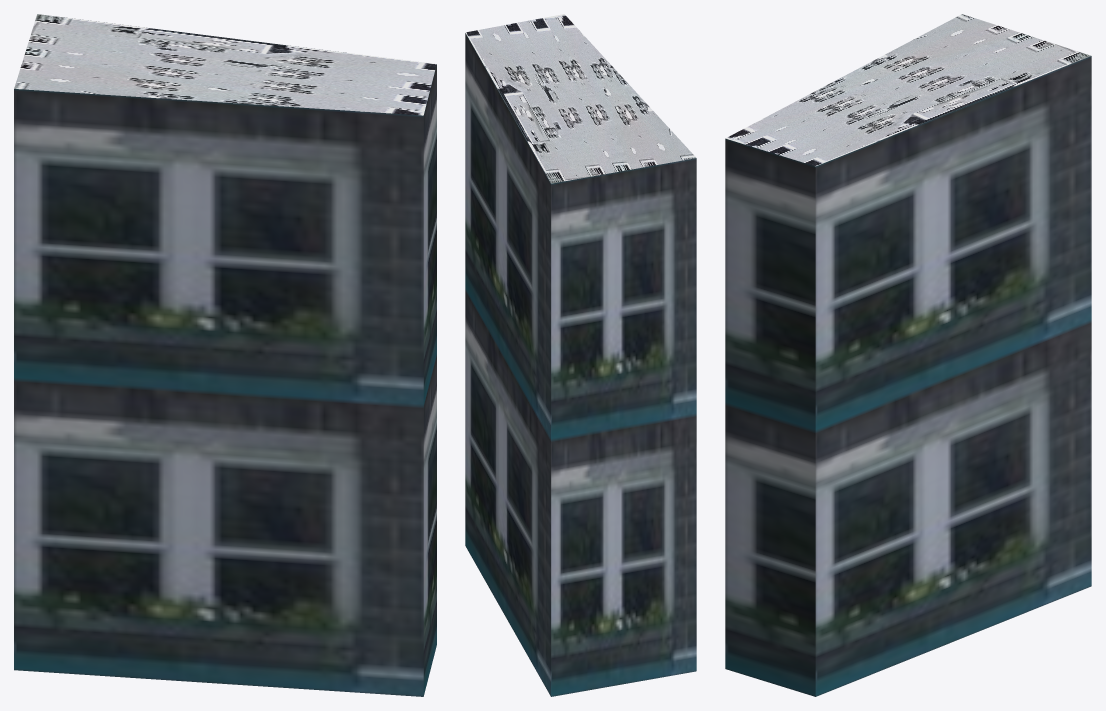
The model's file is ResTex__3393.fbx.
3 views of the same model, side by side, from view 1: azimuth 30°, elevation 25°; view 2: azimuth 150°, elevation 25°; view 3: azimuth 270°, elevation 25° (orthographic). The views are drawn at different scales.
Parts seen in each view (by area): view 1: CityEngineMaterial_11_m, CityEngineMaterial_m; view 2: CityEngineMaterial_11_m, CityEngineMaterial_m; view 3: CityEngineMaterial_11_m, CityEngineMaterial_m.
Part boxes in pixels (x1,y1,x2,y2): CityEngineMaterial_11_m: (14, 64, 436, 696); CityEngineMaterial_m: (14, 14, 436, 115); CityEngineMaterial_11_m: (465, 33, 696, 696); CityEngineMaterial_m: (465, 14, 696, 183); CityEngineMaterial_11_m: (725, 56, 1091, 696); CityEngineMaterial_m: (725, 14, 1091, 166).
Bounding box in the file's own units: 3.7 × 6 × 3.76.
Materials: 2 (2 with a texture image).
